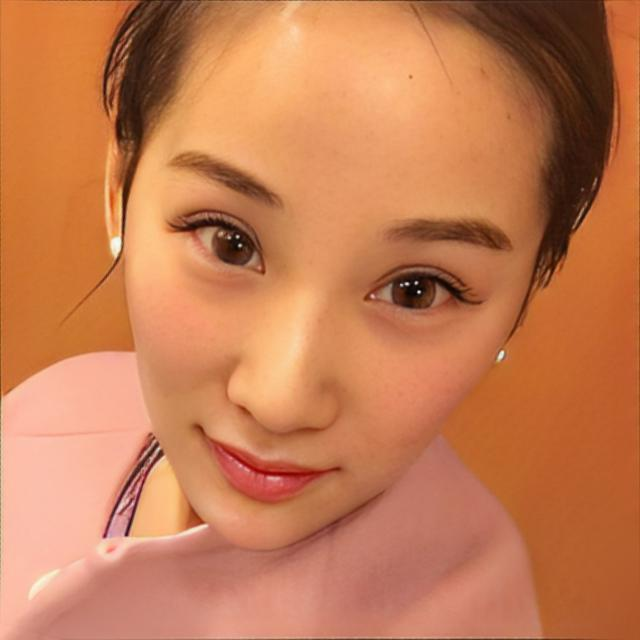surprise: (122, 2, 558, 554)
